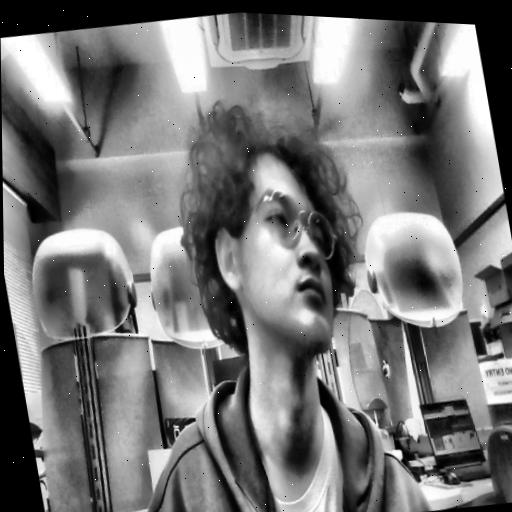Daifuku: (161, 109, 379, 381)
